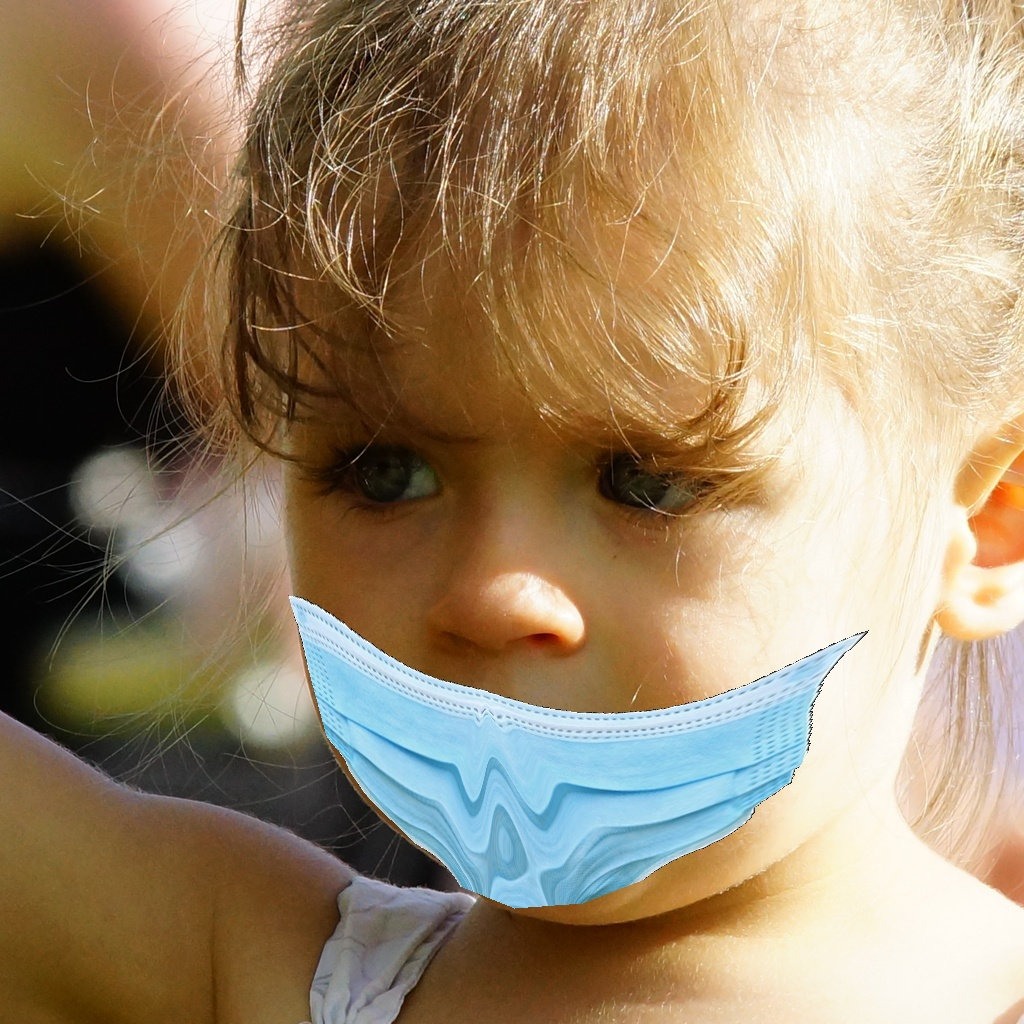mask_weared_incorrect: (265, 410, 894, 947)
